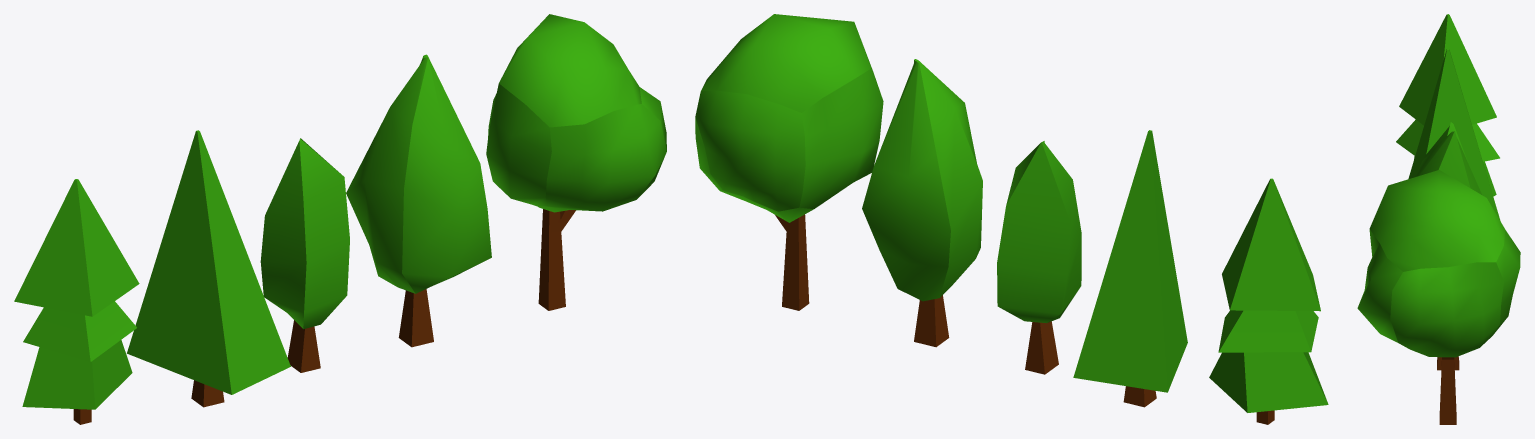
File: Trees.fbx
3 renders of one model, left to right at view 1: azimuth 30°, elevation 25°; view 2: azimuth 150°, elevation 25°; view 3: azimuth 270°, elevation 25°, orthographic. The views are drawn at different scales.
Parts seen in each view (by area): view 1: tree1, tree3, tree5, tree, tree4; view 2: tree1, tree3, tree, tree5, tree4; view 3: tree1, tree, tree5, tree3, tree4.
Boxes of the visible parts, x1=… form: tree1: x1=486, y1=14, x2=666, y2=310; tree3: x1=346, y1=54, x2=491, y2=347; tree5: x1=127, y1=130, x2=290, y2=407; tree: x1=14, y1=179, x2=139, y2=424; tree4: x1=260, y1=138, x2=349, y2=372; tree1: x1=695, y1=14, x2=883, y2=310; tree3: x1=862, y1=59, x2=982, y2=347; tree: x1=1209, y1=178, x2=1328, y2=424; tree5: x1=1073, y1=130, x2=1187, y2=407; tree4: x1=997, y1=141, x2=1081, y2=374; tree1: x1=1357, y1=170, x2=1520, y2=424; tree: x1=1396, y1=14, x2=1499, y2=196; tree5: x1=1408, y1=49, x2=1500, y2=220; tree3: x1=1415, y1=131, x2=1481, y2=370; tree4: x1=1423, y1=122, x2=1469, y2=165.
Bounding box in the file's own units: 13.74 × 6.08 × 3.6.
